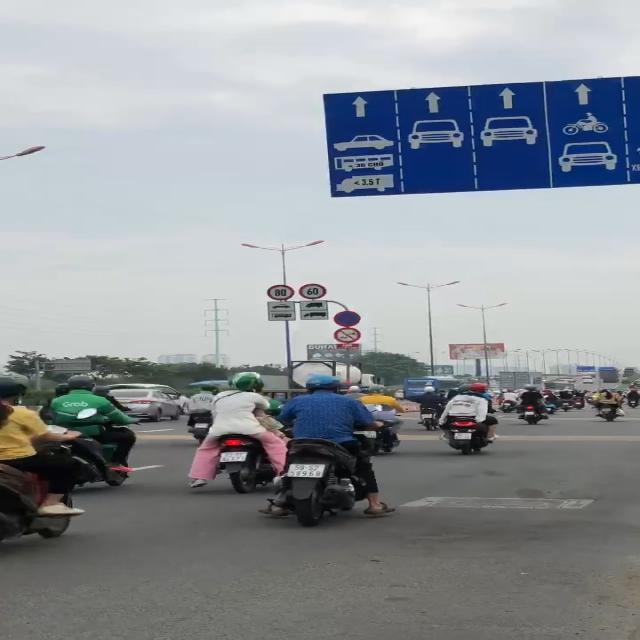Bien bao cam dung xe va do xe: (334, 310, 362, 327)
Bien bao toc do toi da cho phep: (298, 283, 327, 300), (266, 284, 294, 300)
